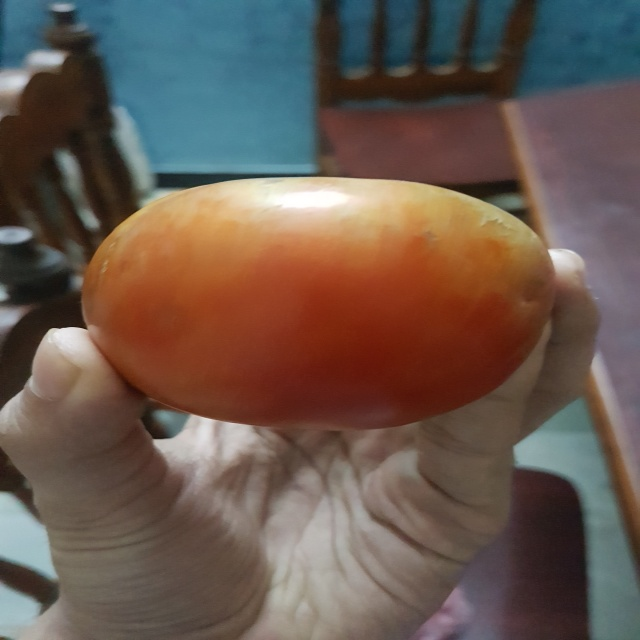tomato: (72, 169, 569, 438)
